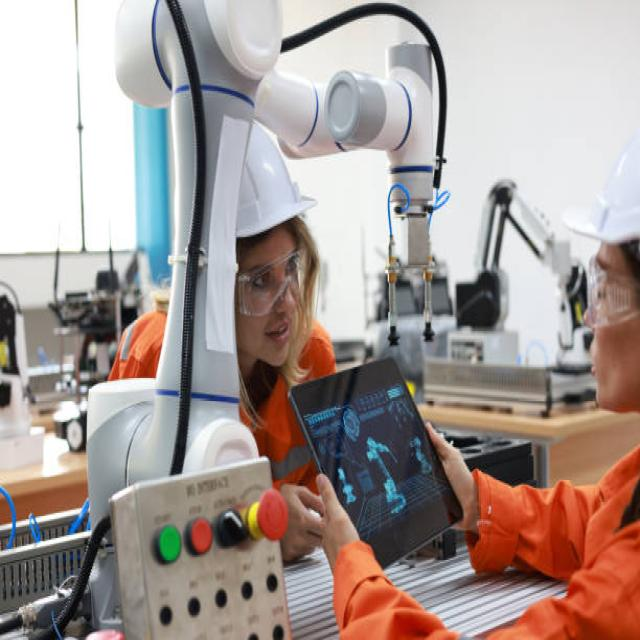Robotic-arm: (87, 0, 445, 518)
